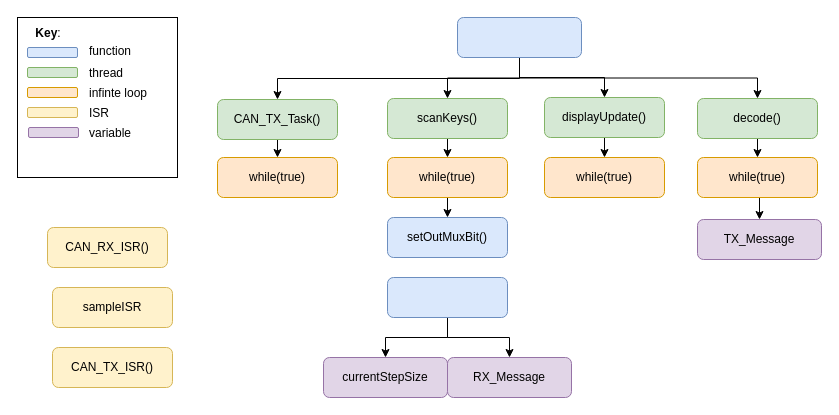
This 839x415 diagram has some shape labels left out. Each missing label, with the centre of its shape:
"readCols()" belongs at (x=447, y=297).
"setup()" belongs at (x=519, y=37).
